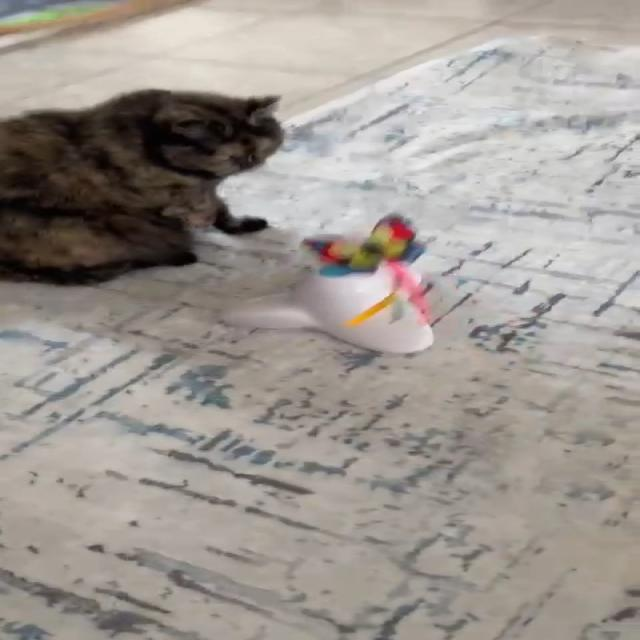authorized: (0, 88, 284, 285)
